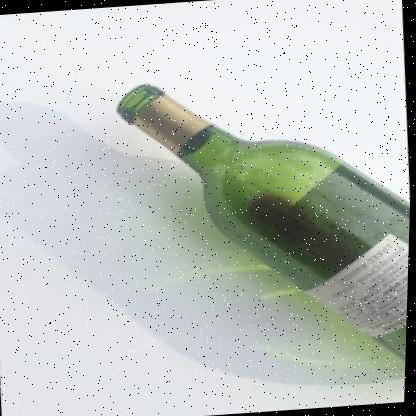Glass: (118, 84, 411, 361)
